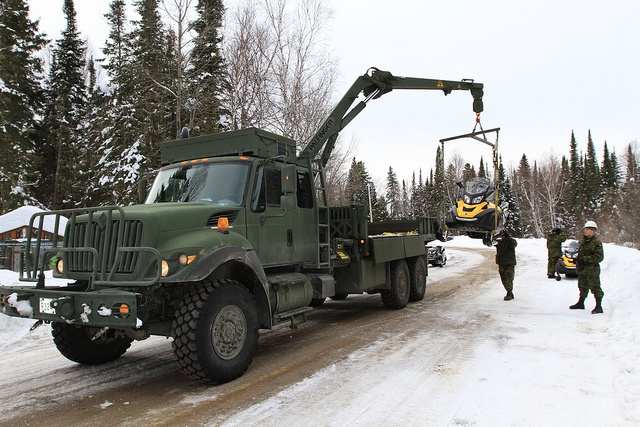non-vehicle: (434, 176, 503, 247), (555, 238, 580, 279), (425, 244, 448, 266)
